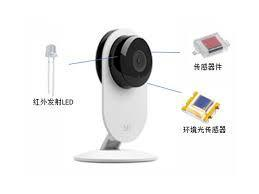maru: (72, 21, 166, 171)
